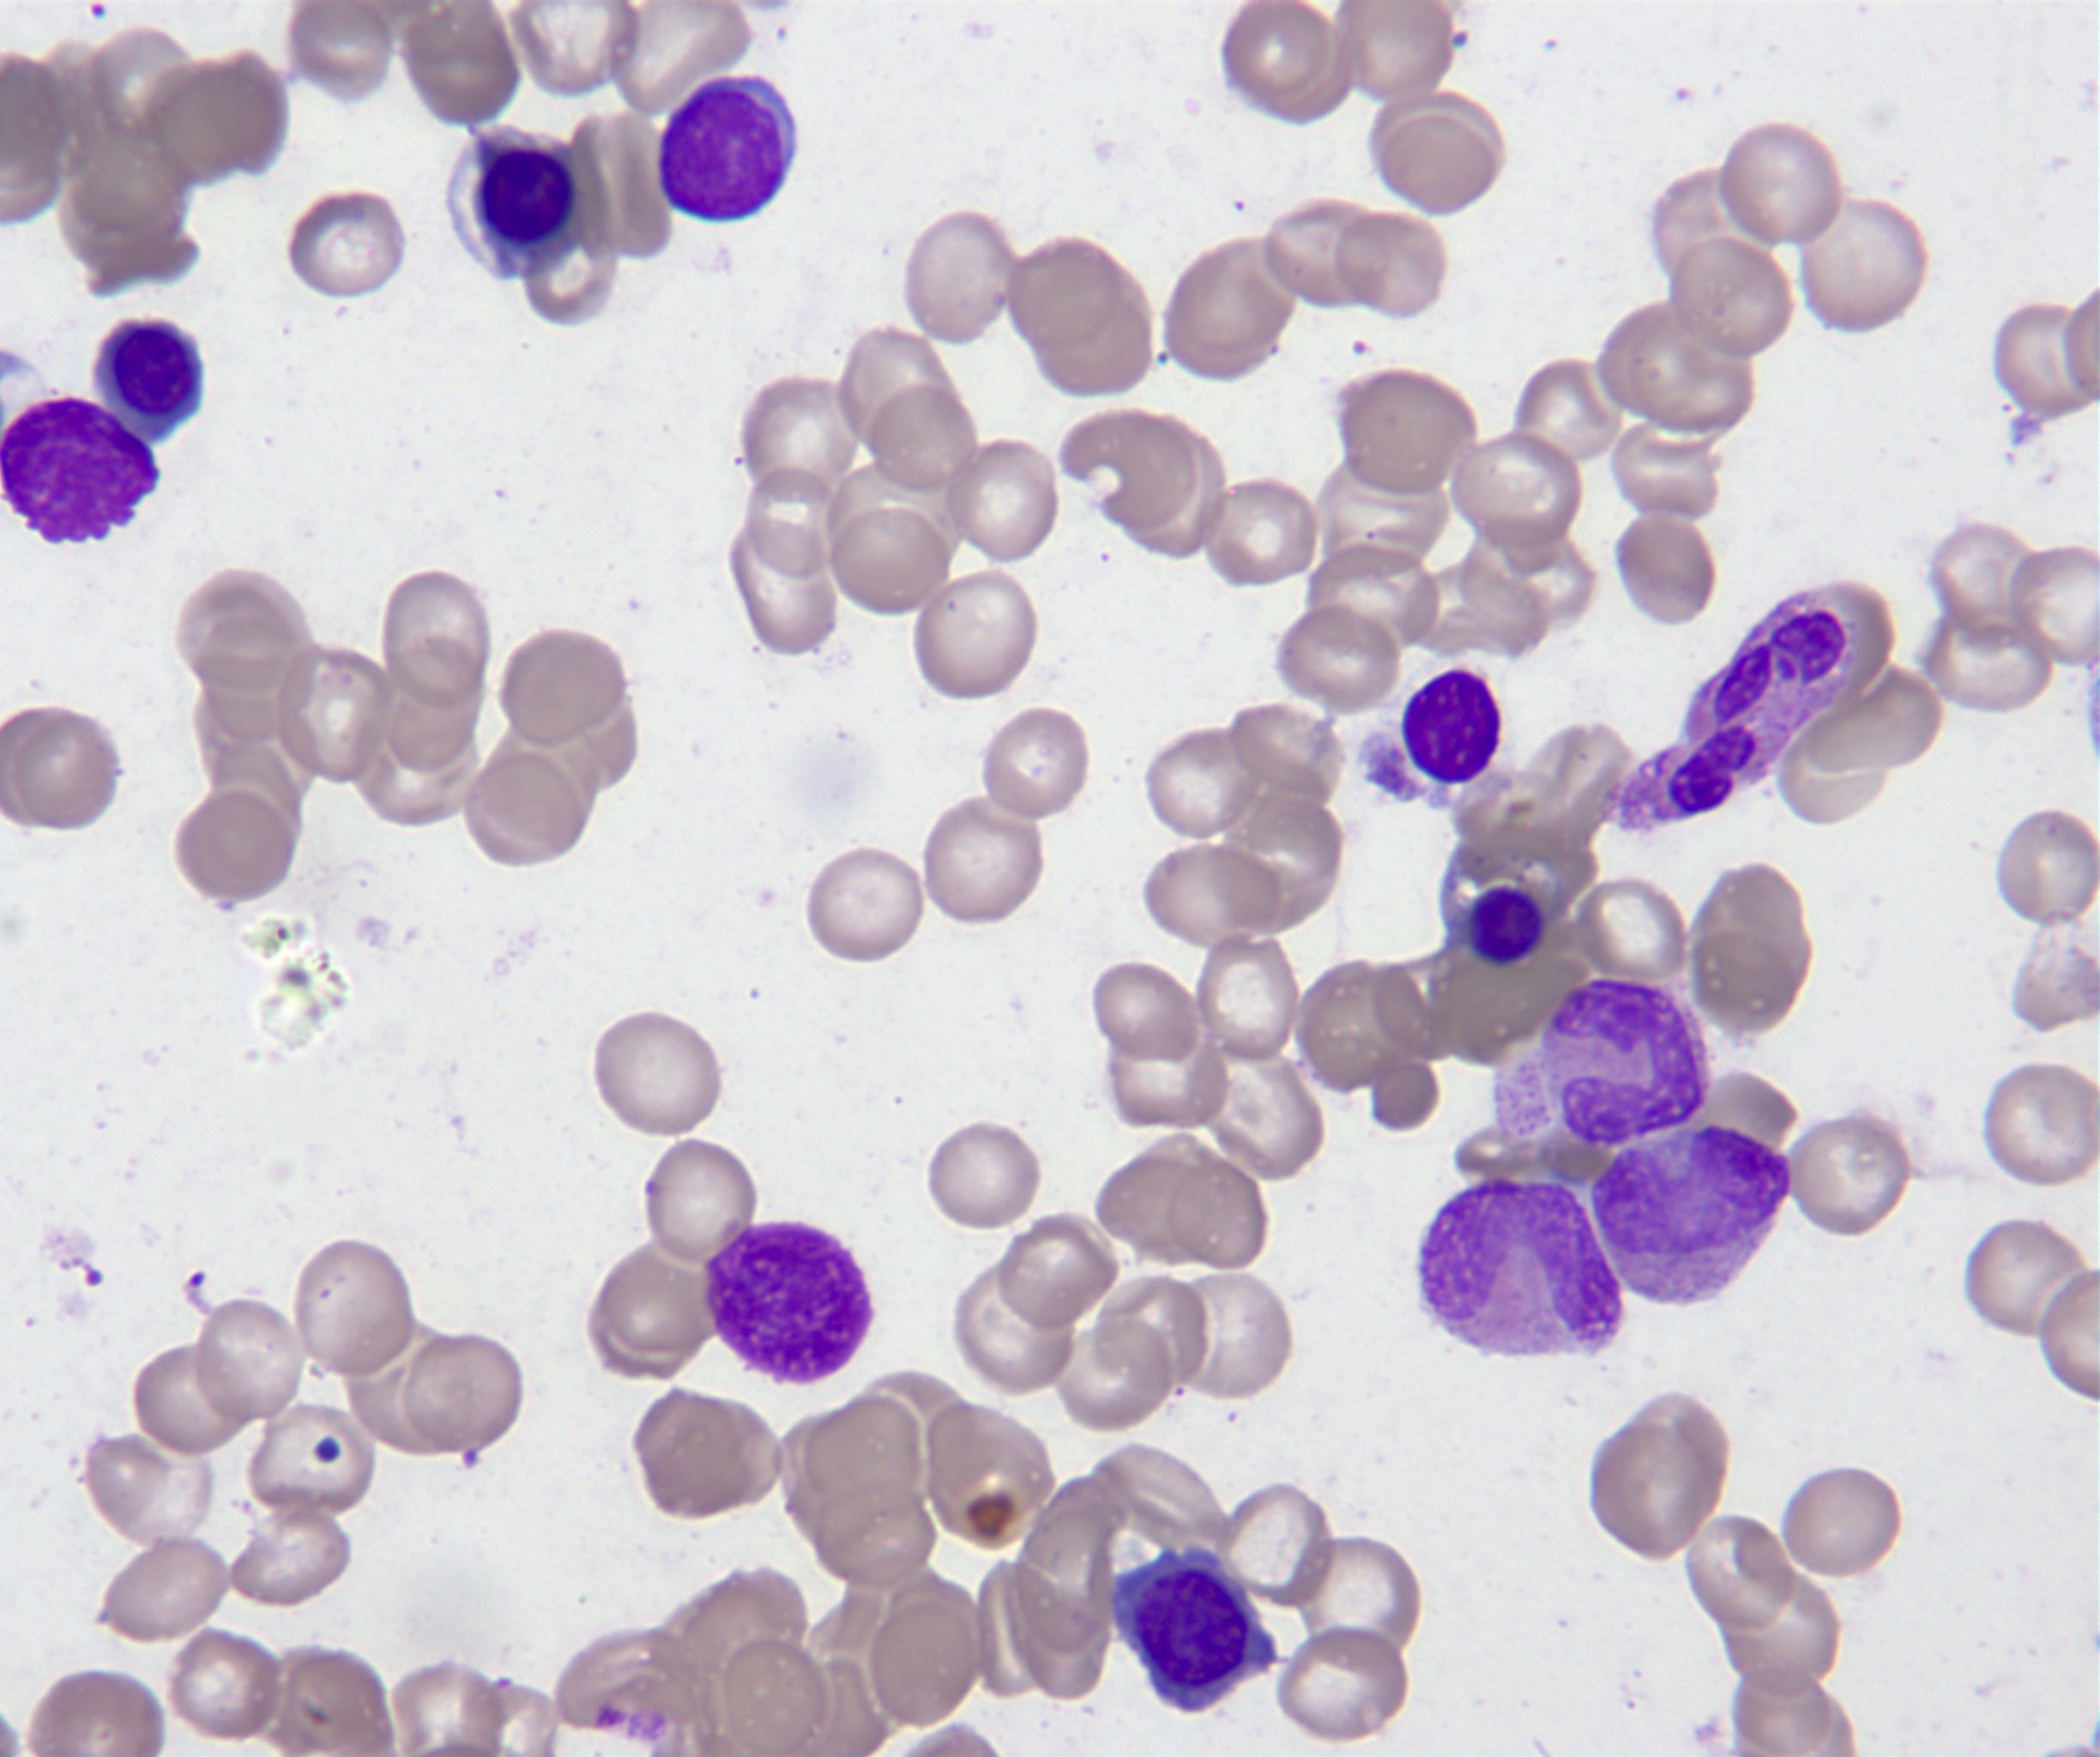24: (1113, 1544, 1278, 1715), (448, 126, 584, 279), (1439, 846, 1565, 965), (92, 319, 202, 448)
32: (659, 75, 794, 223)
4: (1591, 1127, 1790, 1305)
5: (1418, 1179, 1626, 1357), (1493, 981, 1709, 1150)
6: (1598, 591, 1856, 831)
x: (705, 1221, 874, 1385), (1355, 637, 1514, 811), (0, 398, 159, 546)
